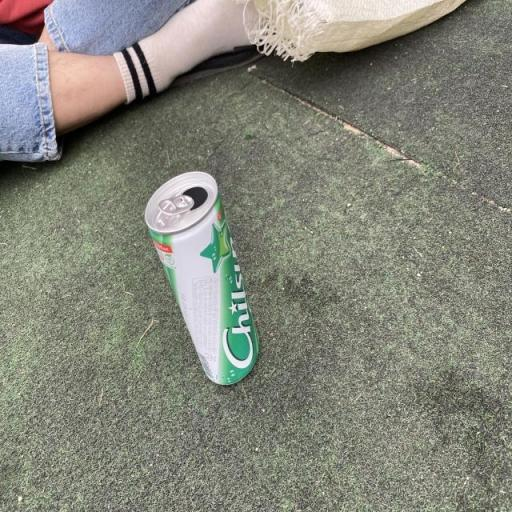metal: (130, 158, 268, 402)
